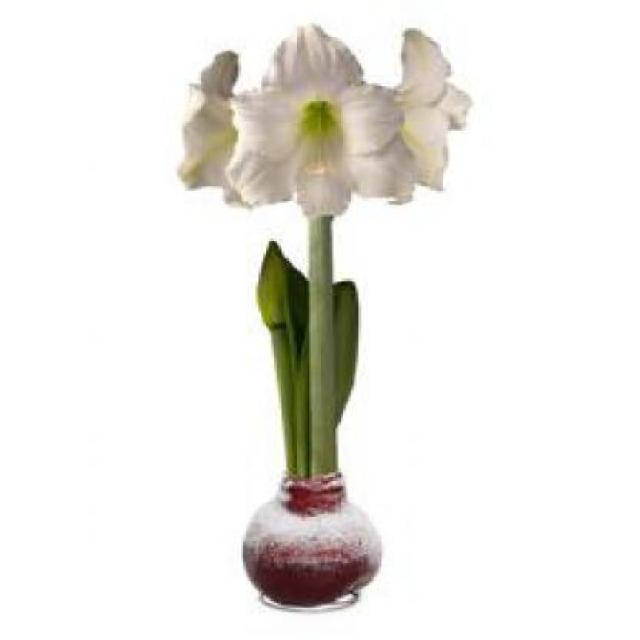Flower: (226, 26, 415, 217), (399, 31, 472, 191), (176, 49, 244, 189)
